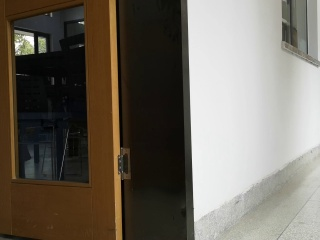room: (3, 2, 201, 239)
